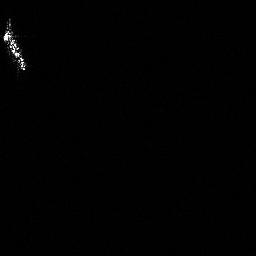ship: (1, 21, 31, 73)
